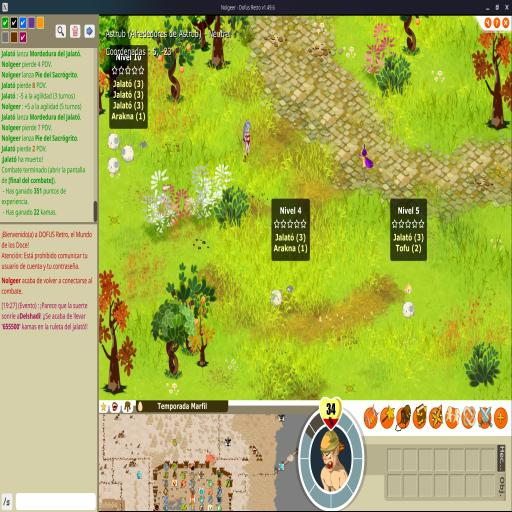Enemigos: (107, 133, 120, 151), (107, 157, 120, 175), (270, 289, 283, 307), (402, 301, 415, 319), (122, 144, 134, 163), (404, 281, 413, 296), (138, 140, 148, 150), (286, 285, 295, 295)
Personaje: (356, 142, 376, 189)
